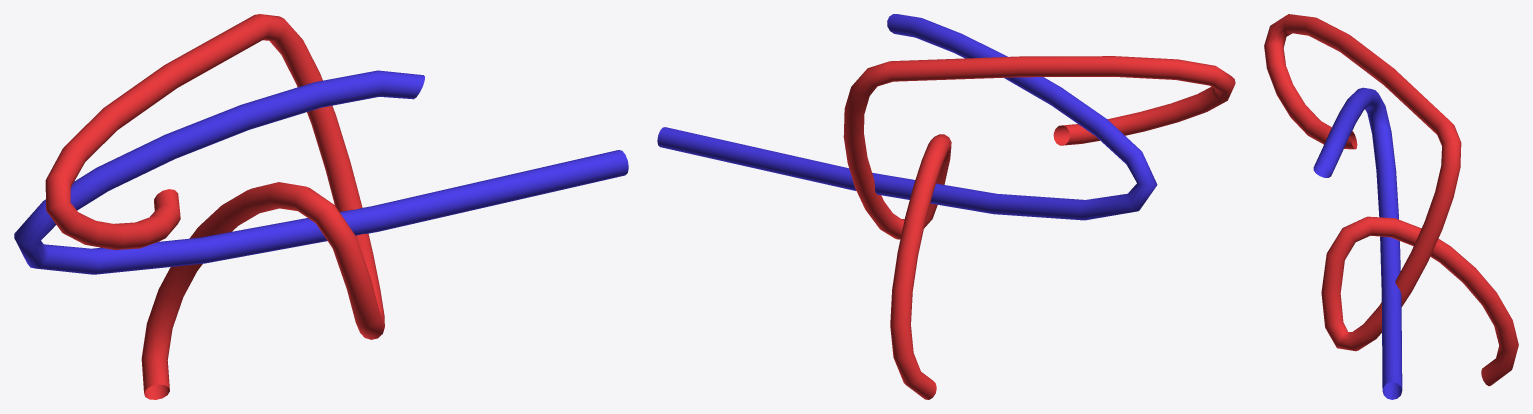
Rendered from SquareKnotState5.dae.
3 renders of one model, left to right at view 1: azimuth 30°, elevation 25°; view 2: azimuth 150°, elevation 25°; view 3: azimuth 270°, elevation 25°, orthographic. The views are drawn at different scales.
Visible parts, largest first — view 1: BezierCurve.003, BezierCurve.002; view 2: BezierCurve.003, BezierCurve.002; view 3: BezierCurve.003, BezierCurve.002.
Boxes of the visible parts, left/top/right/bottom form: BezierCurve.003: left=45, top=14, right=384, bottom=399; BezierCurve.002: left=14, top=70, right=628, bottom=274; BezierCurve.003: left=843, top=56, right=1235, bottom=399; BezierCurve.002: left=657, top=14, right=1157, bottom=220; BezierCurve.003: left=1264, top=14, right=1518, bottom=386; BezierCurve.002: left=1313, top=87, right=1402, bottom=399.
Bounding box in the file's own units: 0.5691 × 0.2577 × 0.3332.
